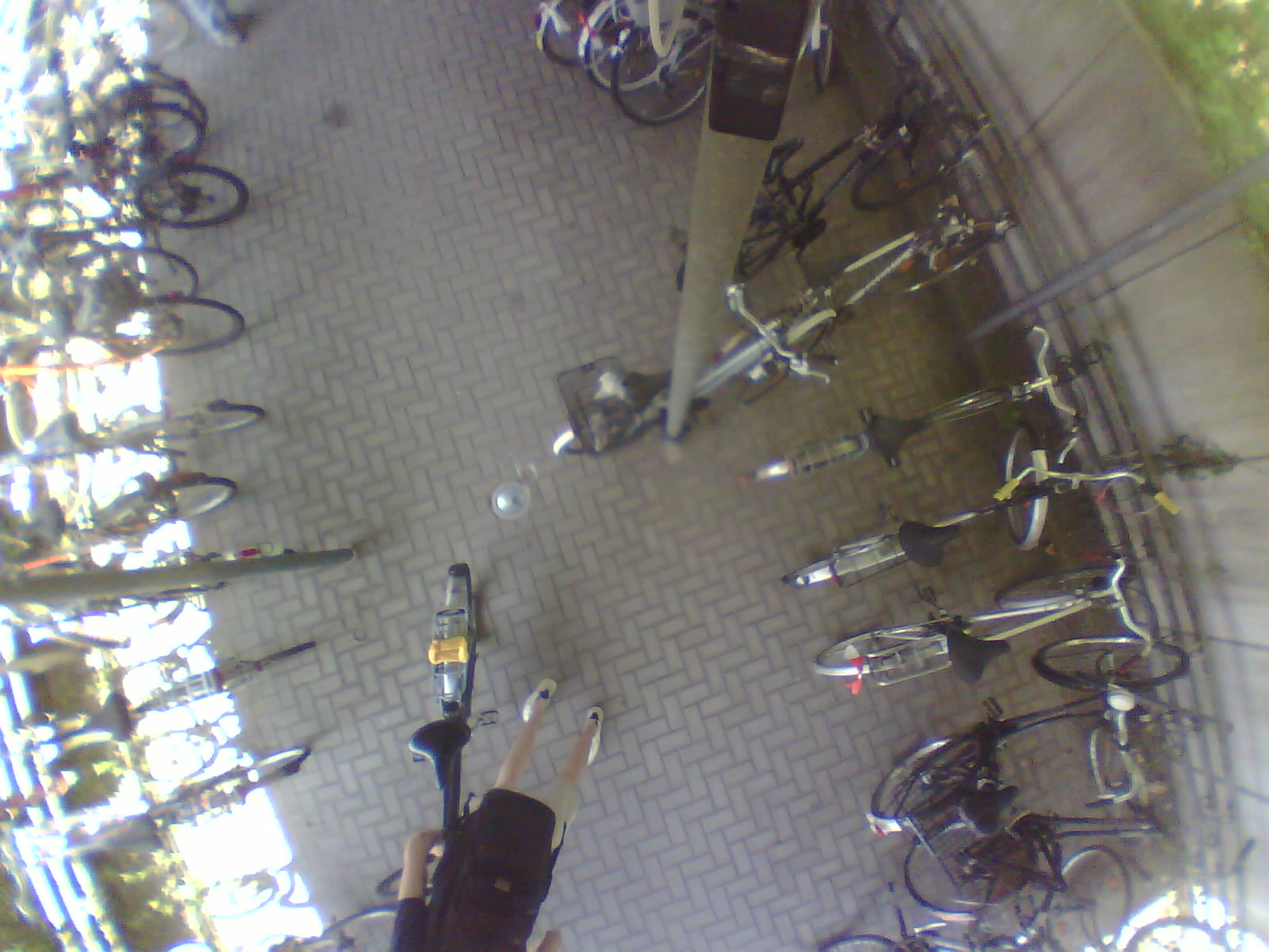bicylce: (733, 317, 1111, 487), (782, 426, 1165, 590), (682, 91, 975, 289), (871, 639, 1161, 833), (544, 303, 841, 473), (383, 561, 509, 952), (828, 548, 1149, 684), (0, 624, 320, 748), (0, 733, 305, 844), (612, 0, 843, 143), (0, 389, 270, 479), (0, 146, 256, 238), (0, 291, 252, 379), (0, 467, 231, 548)
saddle: (861, 400, 950, 479), (891, 511, 973, 586), (50, 688, 140, 750), (792, 243, 875, 304), (408, 718, 471, 795), (85, 812, 177, 864), (954, 778, 1026, 841), (946, 626, 1024, 684), (25, 412, 94, 458), (27, 303, 84, 353), (17, 122, 90, 158), (760, 131, 808, 180), (22, 493, 59, 544), (622, 367, 675, 402), (4, 227, 41, 253)
